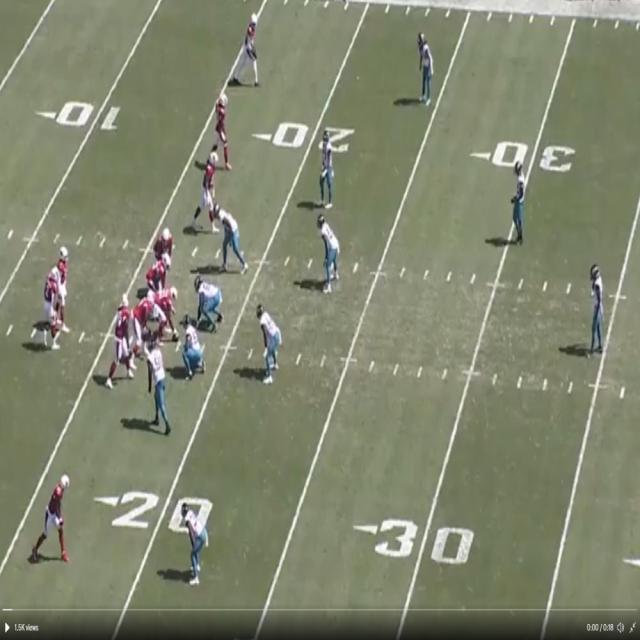center: (158, 284, 179, 325)
db: (182, 502, 205, 583), (589, 262, 603, 353), (322, 131, 336, 201), (422, 31, 435, 105), (516, 158, 526, 231)
lb: (259, 304, 279, 382), (320, 215, 338, 294)
qb: (58, 246, 68, 292)
skill: (43, 471, 73, 563), (198, 154, 220, 228), (48, 267, 67, 346), (218, 85, 234, 168), (243, 19, 261, 90)
